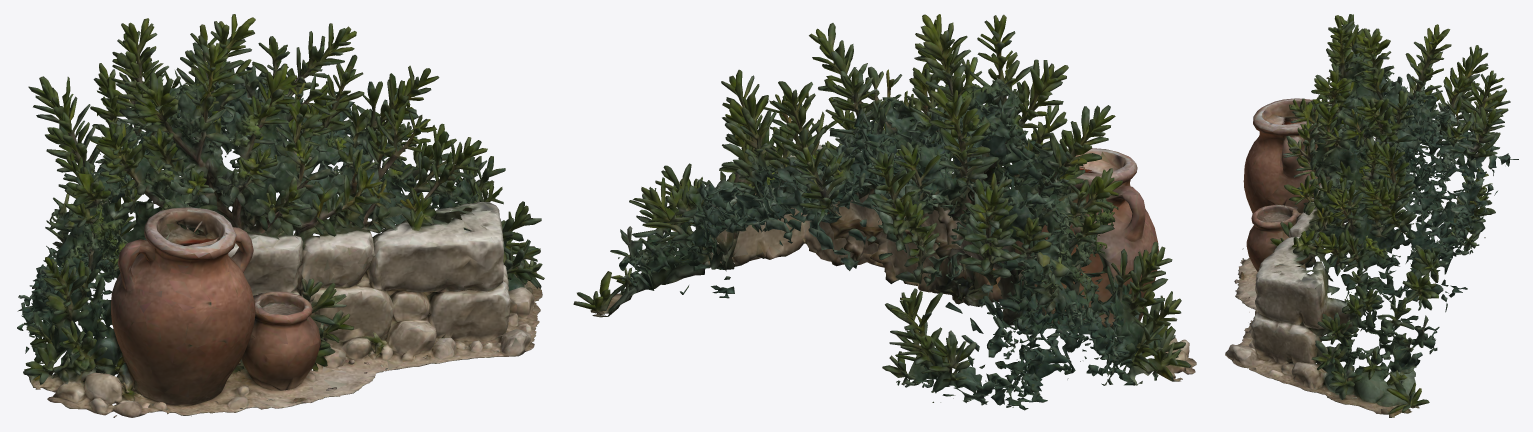
The model's file is olive-wall-cluster-a-cutout-pixal3d-runtime.glb.
3 renders of one model, left to right at view 1: azimuth 30°, elevation 25°; view 2: azimuth 150°, elevation 25°; view 3: azimuth 270°, elevation 25°, orthographic. The views are drawn at different scales.
Visible parts, largest first — view 1: geometry_0; view 2: geometry_0; view 3: geometry_0.
Boxes of the visible parts, box(x1,y1,x2,y2) form: geometry_0: box(17, 14, 544, 417); geometry_0: box(573, 14, 1196, 410); geometry_0: box(1225, 14, 1518, 417).
Bounding box in the file's own units: 2.14 × 1.25 × 1.26.
Materials: 1 (1 with a texture image).
